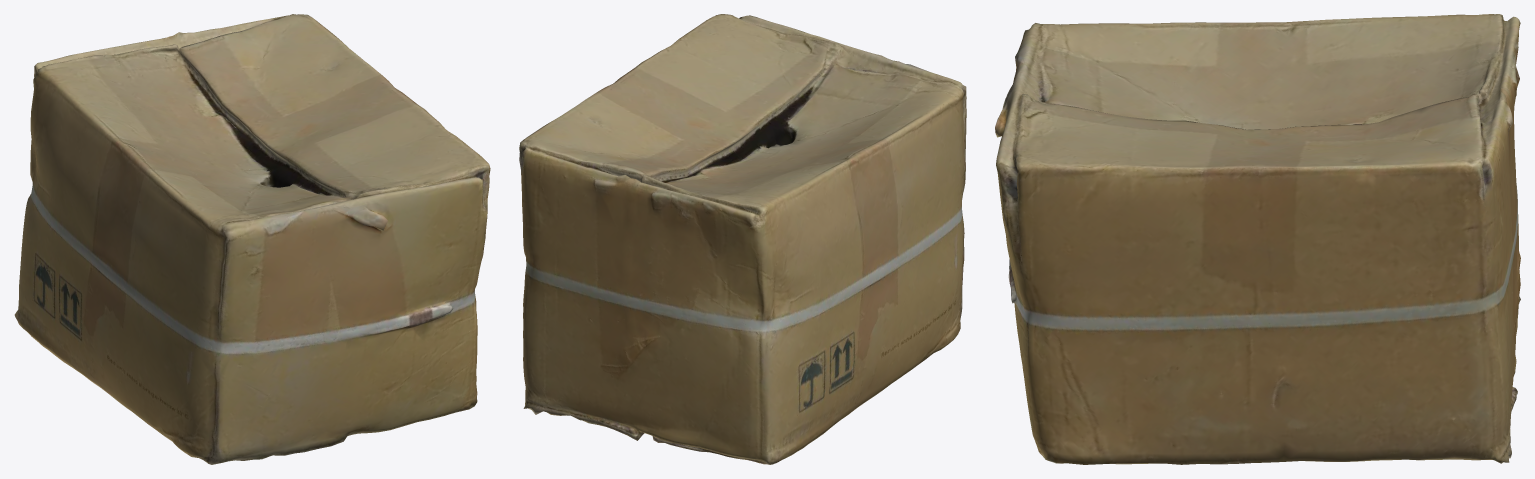
File: cardboard_box_01.glb
The picture shows the model from 3 angles, left to right: view 1: azimuth 30°, elevation 25°; view 2: azimuth 150°, elevation 25°; view 3: azimuth 270°, elevation 25°; orthographic projection. The views are drawn at different scales.
Parts seen in each view (by area): view 1: cardboard_box_01; view 2: cardboard_box_01; view 3: cardboard_box_01.
Boxes of the visible parts, x1,y1,x2,y2 form: cardboard_box_01: [14, 14, 490, 464]; cardboard_box_01: [519, 14, 966, 464]; cardboard_box_01: [995, 14, 1520, 464].
Bounding box in the file's own units: 0.387 × 0.3418 × 0.5159.
Materials: 1 (1 with a texture image).
